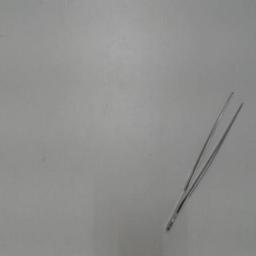Gillies Toothed Dissector: (161, 85, 251, 237)
